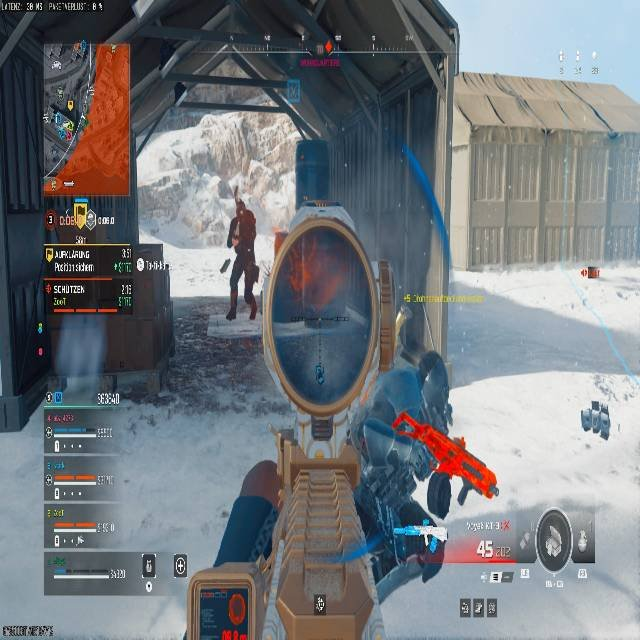player: (206, 309, 495, 640), (228, 198, 259, 322)
